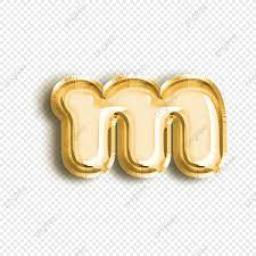m: (45, 72, 229, 182)
